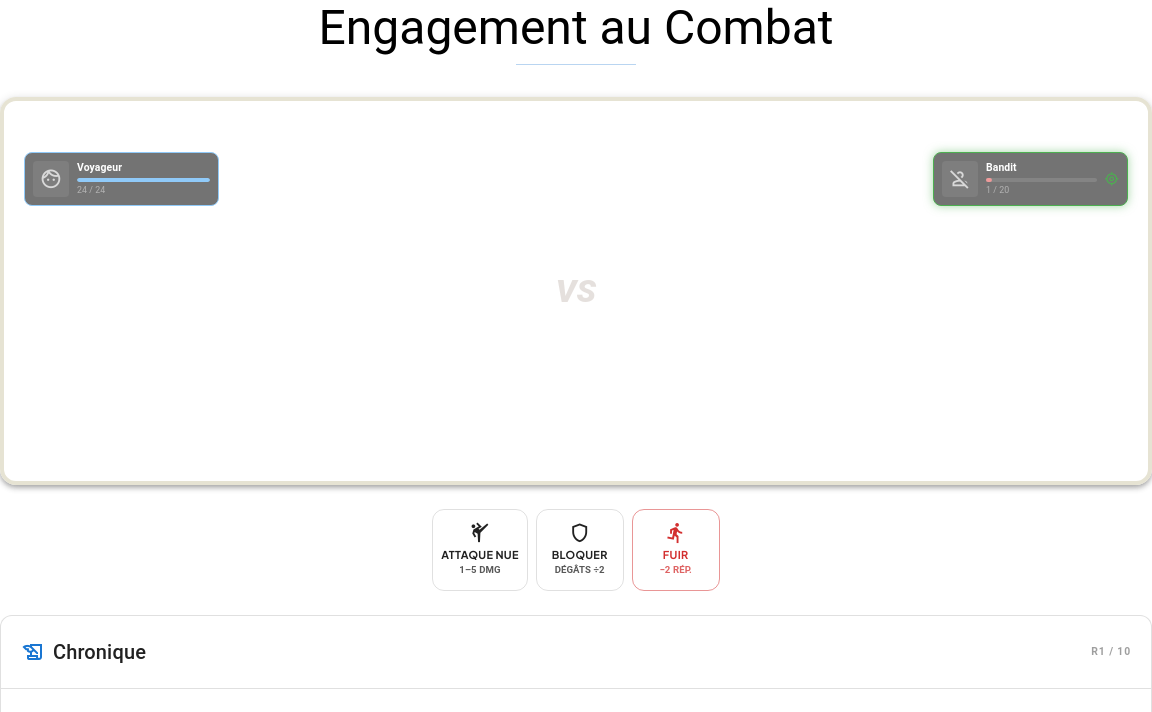
Test case: une victoire refusée ne tue pas les PNJ et ne débite ni ne crédite le joueur
Click the button "Attaque Nue 1–5 dmg": (480, 550) [432, 509, 528, 591]
(page scrolled)
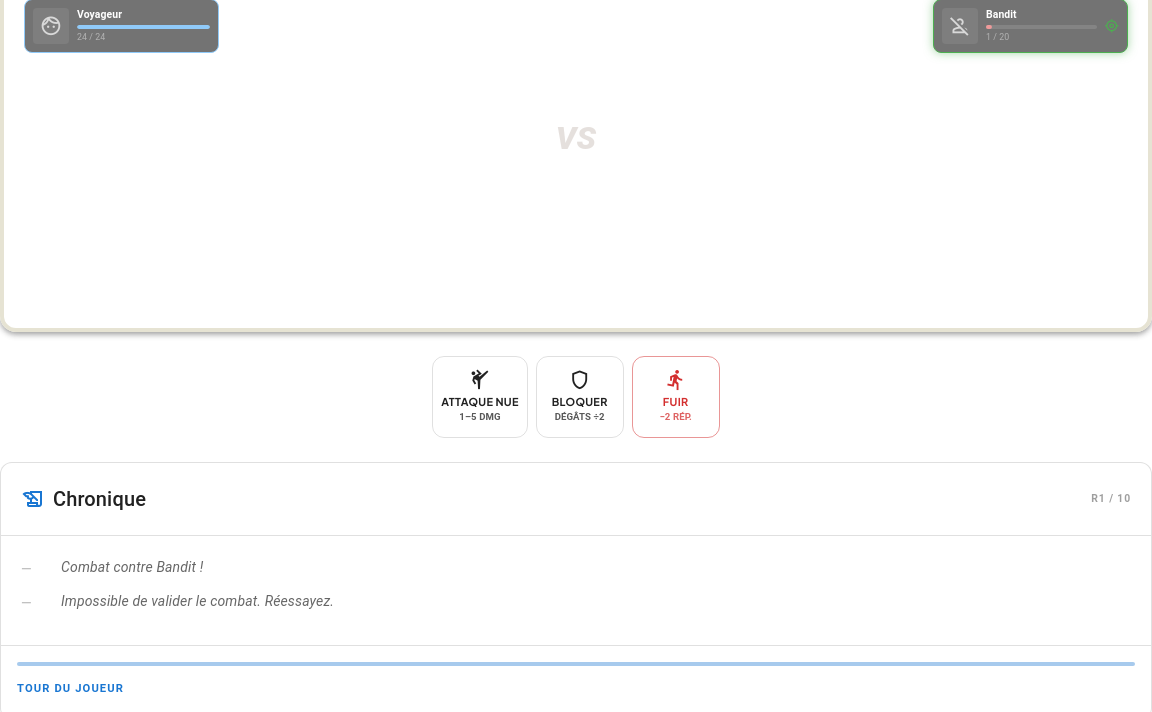
Now the text "Impossible de valider le combat. Réessayez." is shown, box [61, 590, 334, 613]
